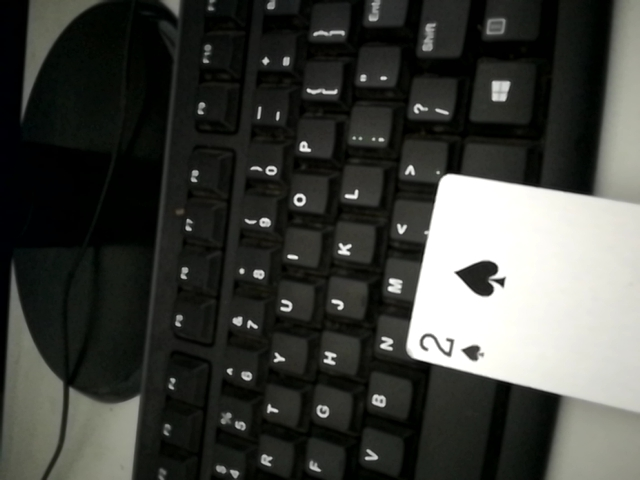ht 2: (398, 166, 640, 453)
